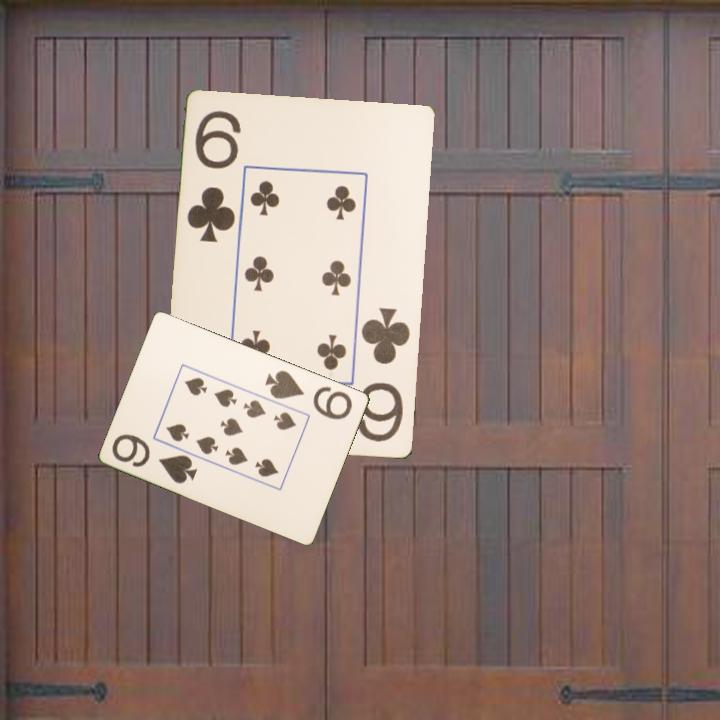6c: (354, 304, 414, 445), (184, 107, 244, 246)
9s: (261, 366, 356, 422), (108, 430, 201, 486)
